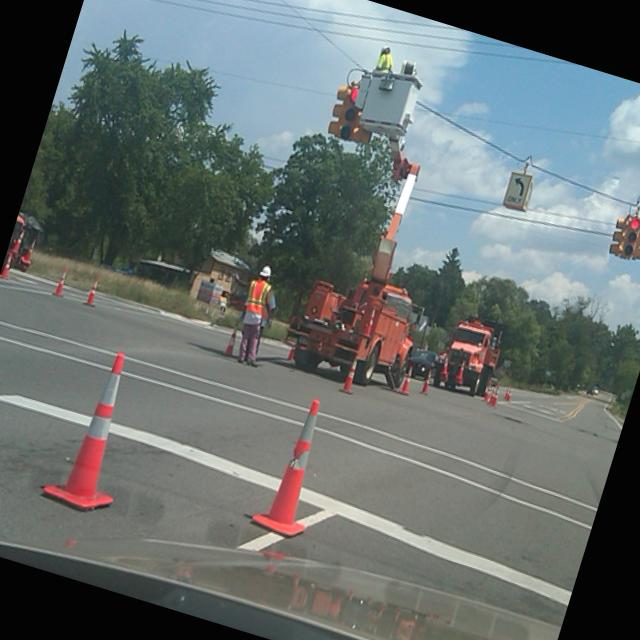Vehicle: (272, 61, 492, 403), (438, 313, 507, 400), (404, 346, 444, 384)
